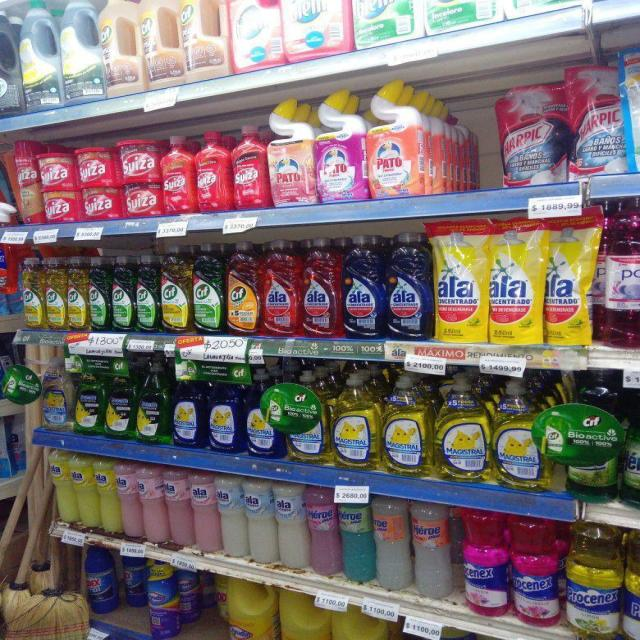ala_conc_azul: (386, 230, 432, 340), (342, 235, 384, 340)
ala_conc_rojo: (301, 237, 341, 339), (261, 239, 300, 338), (227, 240, 260, 336)
ala_crem_amarillo: (72, 453, 96, 529), (50, 450, 72, 524), (97, 458, 118, 533)
ala_crem_blanco: (276, 482, 307, 572), (246, 478, 275, 564), (218, 474, 246, 559)
ala_crem_rosado: (191, 471, 218, 554), (165, 468, 190, 548), (118, 462, 140, 540)
ala_sachet_amarillo: (490, 216, 543, 345), (545, 210, 594, 346), (434, 218, 487, 342)
cif_conc_bot_amarilla: (161, 244, 191, 333), (45, 256, 67, 330), (22, 256, 44, 330), (67, 256, 88, 330)
cif_conc_botella_verde: (193, 243, 225, 334), (136, 252, 160, 332), (111, 254, 134, 332), (89, 255, 110, 331)
heroe: (412, 500, 452, 600), (340, 494, 373, 584), (308, 485, 339, 578)
magistral_con_amarillo: (435, 376, 491, 482), (493, 379, 543, 490), (382, 373, 431, 477), (331, 372, 380, 470)
magistral_con_azul: (244, 375, 280, 458), (208, 381, 242, 454), (172, 374, 205, 449)
